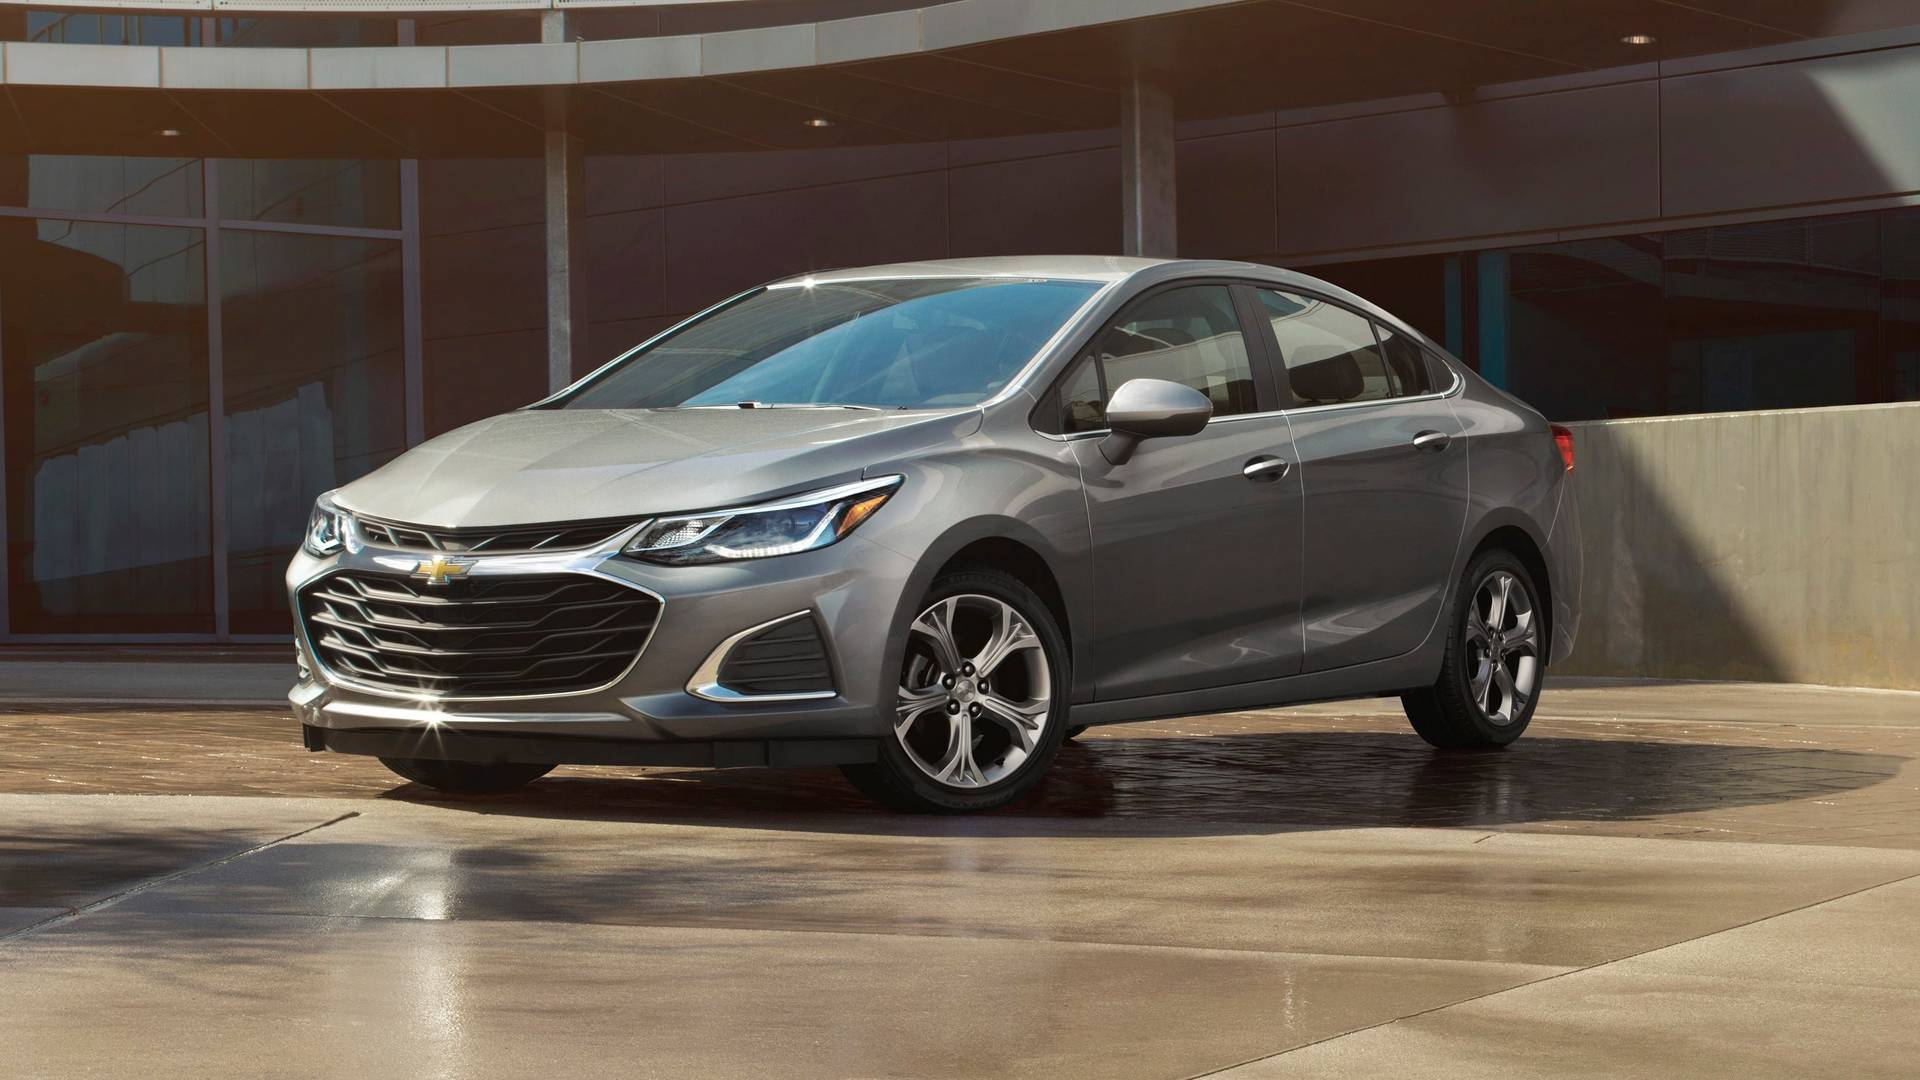sedan: (289, 243, 1597, 814)
